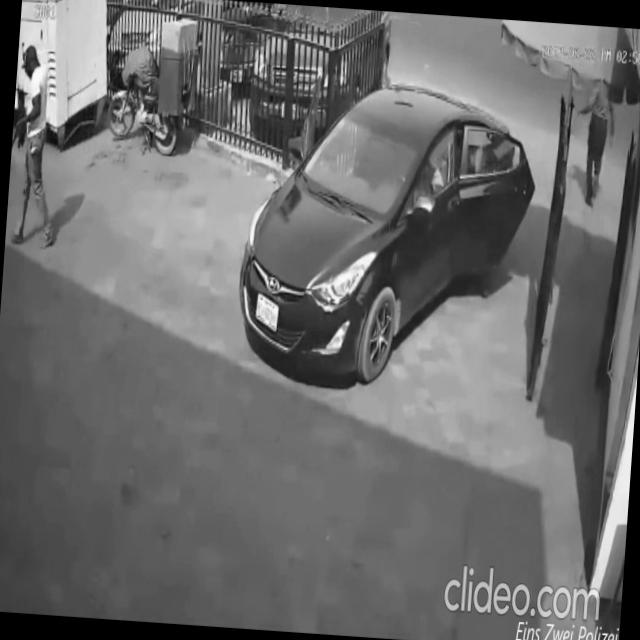gun: (11, 93, 29, 157)
person: (570, 81, 622, 210)
person with a gun: (5, 42, 70, 254)
